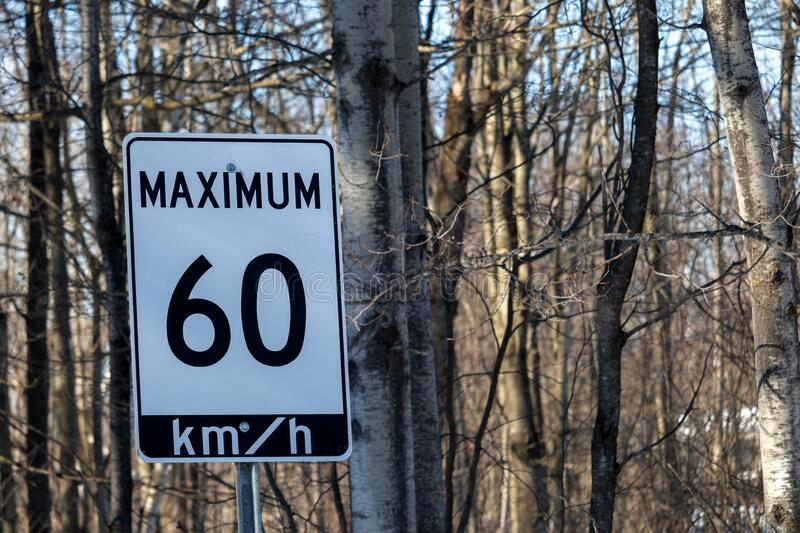speed limit sign: (132, 139, 347, 460)
